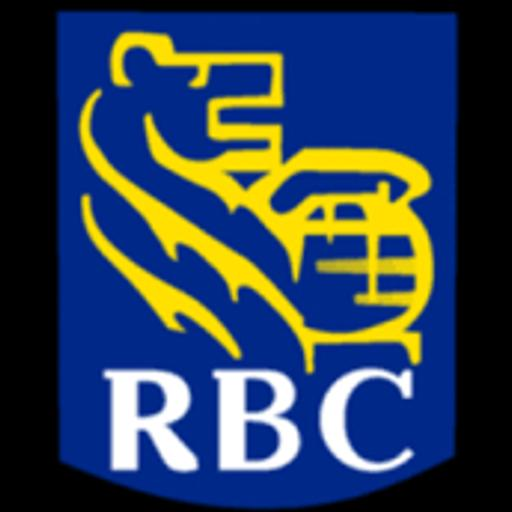RBC Royal Bank: (51, 0, 461, 512)
